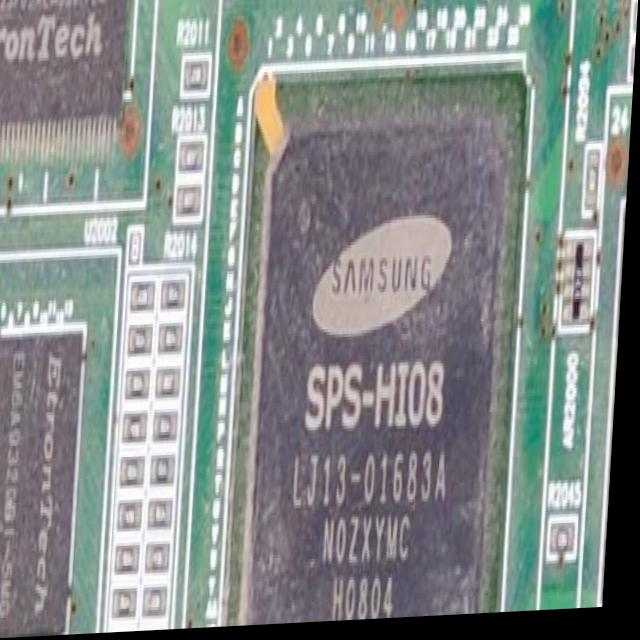IC: (230, 67, 534, 629), (0, 320, 87, 640), (0, 0, 129, 149)
resistor: (185, 54, 212, 96), (589, 156, 605, 215), (180, 183, 208, 215), (556, 526, 580, 560), (182, 135, 205, 170), (134, 320, 157, 351), (165, 279, 188, 308), (133, 372, 153, 398), (157, 497, 175, 525), (165, 405, 184, 430), (156, 549, 175, 572), (153, 592, 171, 616), (162, 454, 179, 479), (133, 418, 151, 441), (123, 550, 142, 571), (138, 283, 157, 303), (166, 373, 180, 394), (127, 584, 142, 603), (132, 464, 152, 478), (130, 501, 145, 517), (630, 8, 638, 35), (166, 336, 184, 348), (119, 630, 139, 634), (631, 63, 636, 71)
